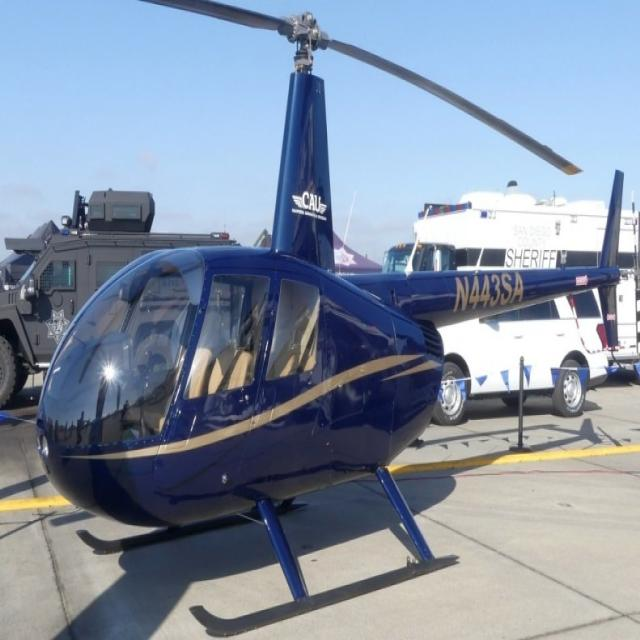CIV_HELO: (33, 0, 628, 639)
